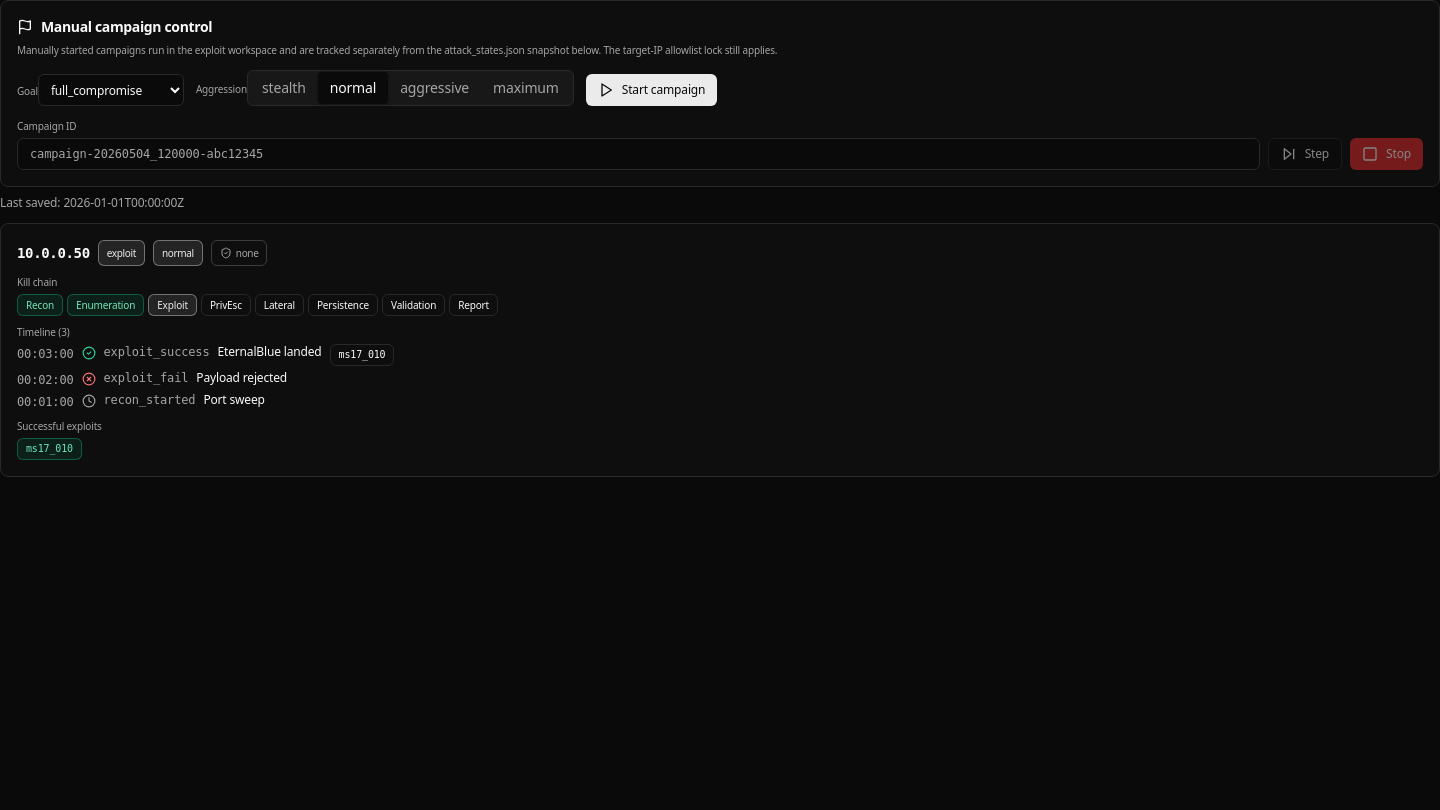
Test: Campaign manual controls › CAMPAIGN_STARTED populates the campaign-id input
Click the button "Start campaign".
click(652, 90)  # box 586,74 -> 717,106
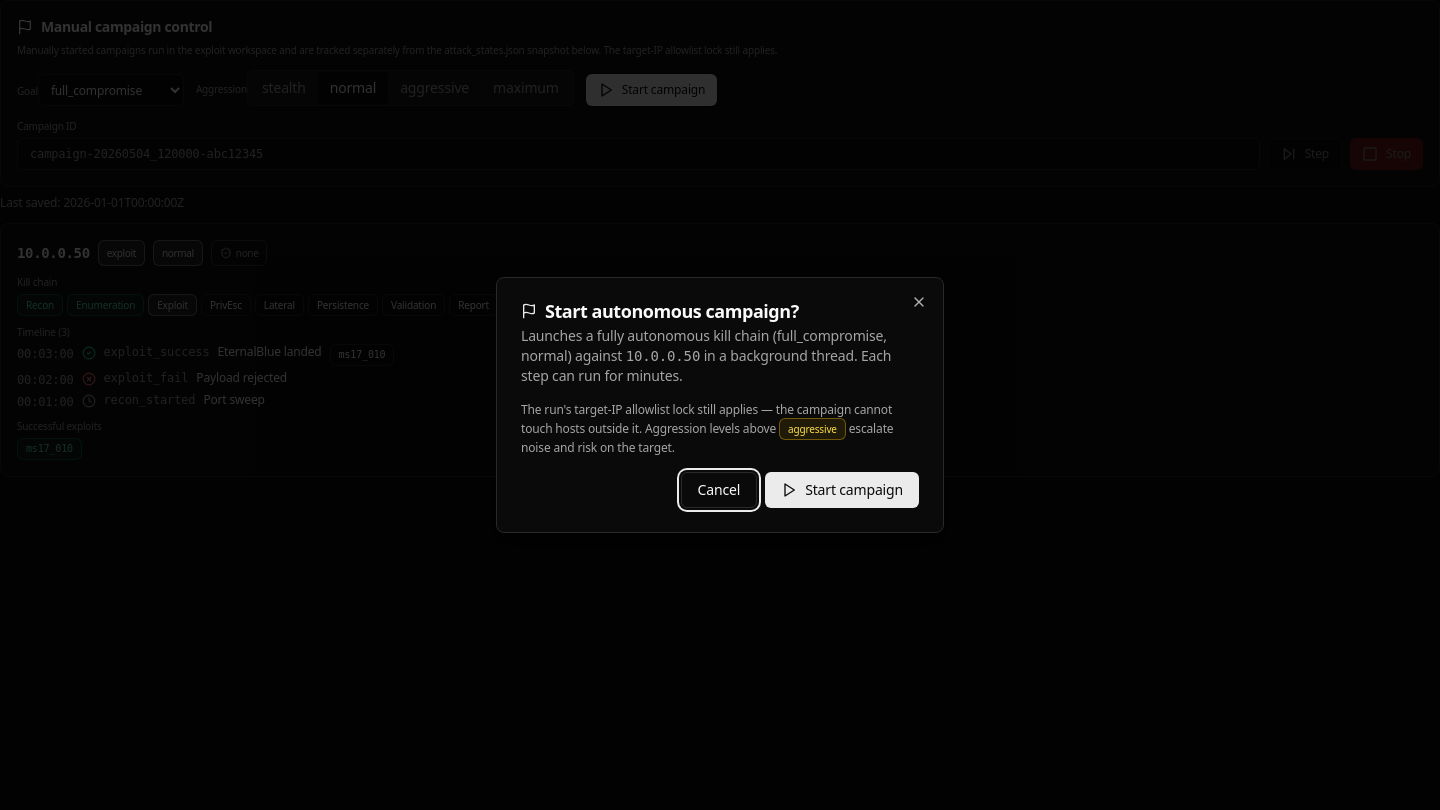
Click the button "Start campaign".
click(842, 490)  # box 765,472 -> 919,508
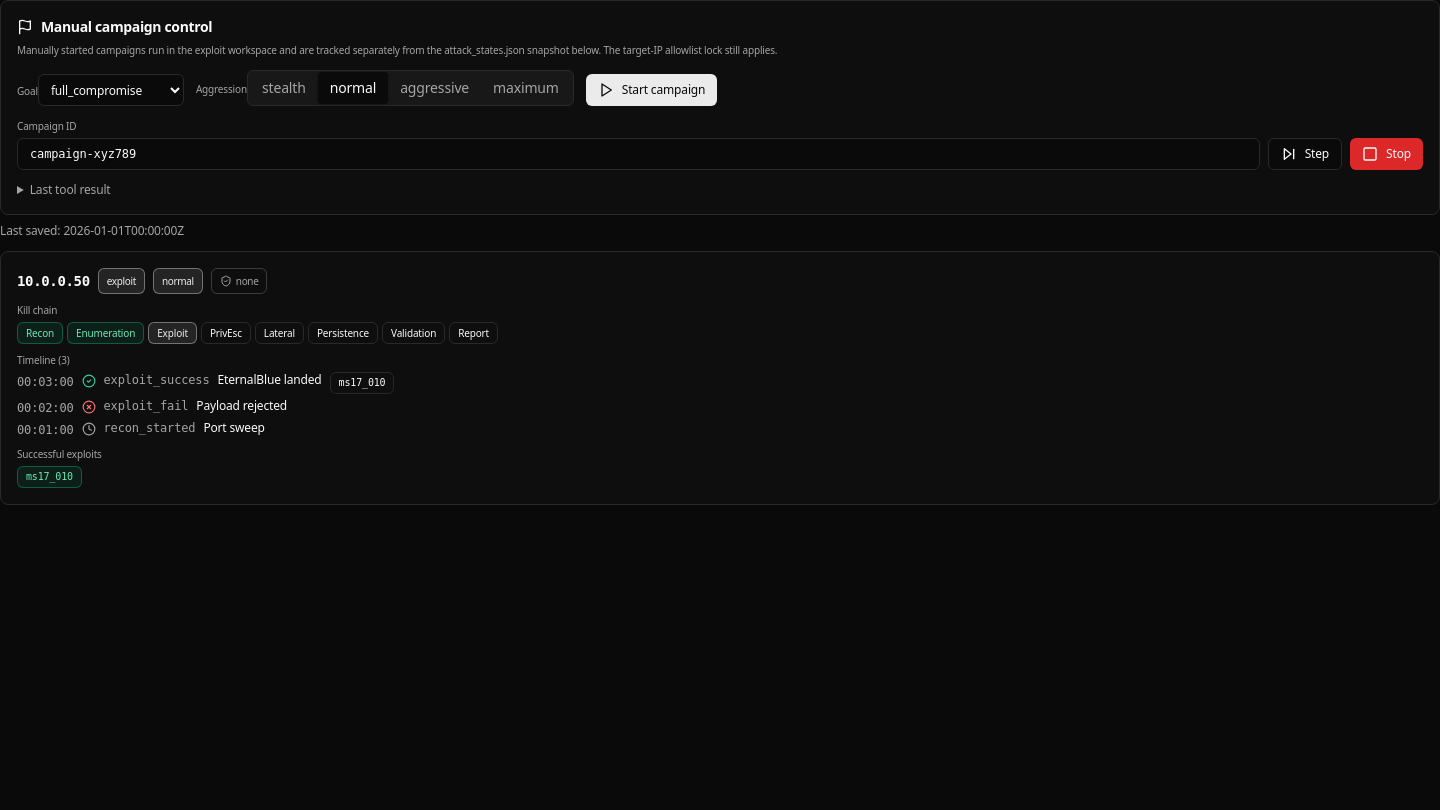
Expected: the field showing "campaign-xyz789" is shown, 17,138 -> 1260,170
